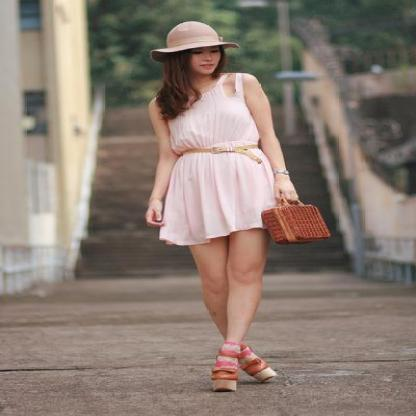bag: (248, 198, 330, 246)
dress: (159, 73, 274, 245)
hat: (162, 22, 233, 51)
shoe: (208, 368, 272, 390)
